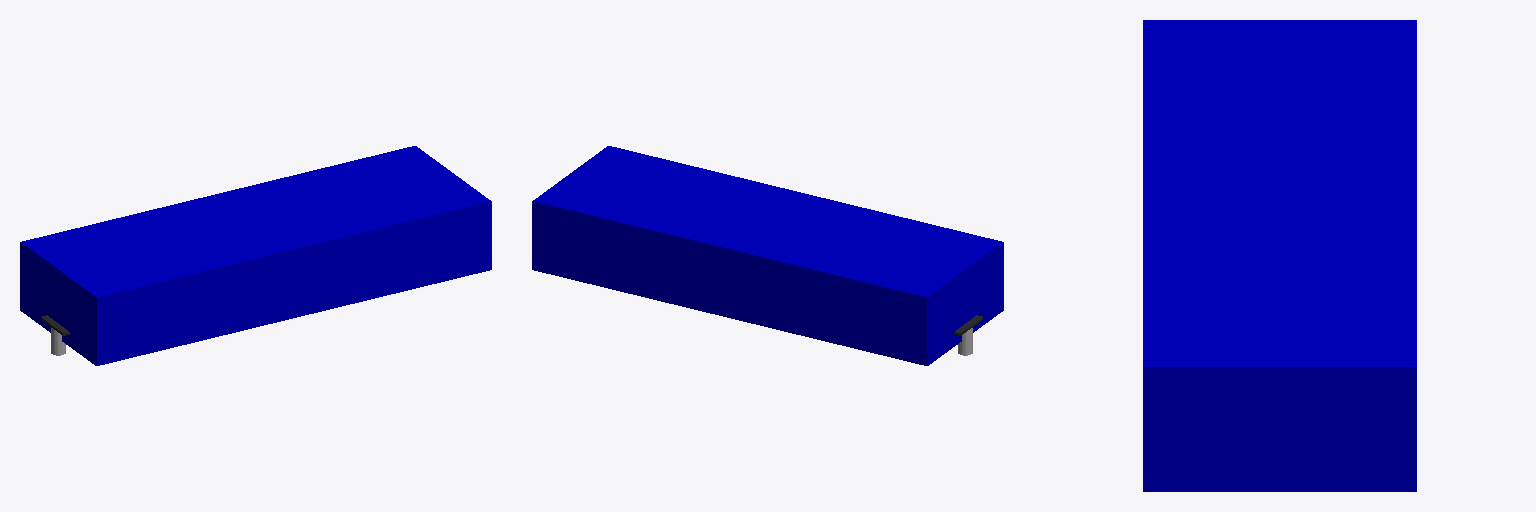
The robot description file, URDF, robot "boat_model":
<?xml version="1.0" ?>
<!-- =================================================================================== -->
<!-- |    This document was autogenerated by xacro from [local-path]/pep_repo/src/pep_pkg/simulations/boat_description/urdf/boat.urdf.xacro | -->
<!-- |    EDITING THIS FILE BY HAND IS NOT RECOMMENDED                                 | -->
<!-- =================================================================================== -->
<robot name="boat_model">
  <!-- Boat Hull -->
  <link name="hull">
    <visual>
      <geometry>
        <box size="3 1 0.5"/>
      </geometry>
      <material name="blue">
        <color rgba="0.0 0.0 0.8 1.0"/>
      </material>
    </visual>
    <collision>
      <geometry>
        <box size="3 1 0.5"/>
      </geometry>
    </collision>
    <inertial>
      <mass value="50"/>
      <origin xyz="0 0 0"/>
      <inertia ixx="5" ixy="0" ixz="0" iyy="5" iyz="0" izz="5"/>
    </inertial>
  </link>
  <!-- Rudder -->
  <link name="rudder">
    <visual>
      <geometry>
        <box size="0.1 0.3 0.02"/>
      </geometry>
      <material name="dark_gray">
        <color rgba="0.2 0.2 0.2 1"/>
      </material>
    </visual>
    <collision>
      <geometry>
        <box size="0.1 0.3 0.02"/>
      </geometry>
    </collision>
    <inertial>
      <mass value="1"/>
      <origin xyz="0 0 0"/>
      <inertia ixx="0.01" ixy="0" ixz="0" iyy="0.01" iyz="0" izz="0.01"/>
    </inertial>
  </link>
  <!-- Joint between hull and rudder -->
  <joint name="rudder_joint" type="revolute">
    <parent link="hull"/>
    <child link="rudder"/>
    <origin rpy="0 0 0" xyz="-1.5 0 -0.15"/>
    <axis xyz="0 0 1"/>
    <limit effort="10" lower="-0.7854" upper="0.7854" velocity="1"/>
  </joint>
  <!-- Motor/Propeller -->
  <link name="motor">
    <visual>
      <geometry>
        <cylinder length="0.2" radius="0.05"/>
      </geometry>
      <material name="silver">
        <color rgba="0.7 0.7 0.7 1"/>
      </material>
    </visual>
    <collision>
      <geometry>
        <cylinder length="0.2" radius="0.05"/>
      </geometry>
    </collision>
    <inertial>
      <mass value="2"/>
      <origin xyz="0 0 0"/>
      <inertia ixx="0.01" ixy="0" ixz="0" iyy="0.01" iyz="0" izz="0.01"/>
    </inertial>
  </link>
  <!-- Joint between hull and motor (fixed) -->
  <joint name="motor_joint" type="fixed">
    <parent link="hull"/>
    <child link="motor"/>
    <origin rpy="0 0 0" xyz="-1.5 0 -0.25"/>
  </joint>
</robot>

--- What the picture shows (computed from the rendered views, not written in the file) ---
Views: 3 orthographic renders of the robot side by side, from view 1: azimuth 30°, elevation 25°; view 2: azimuth 150°, elevation 25°; view 3: azimuth 270°, elevation 25°.
Robot: boat_model — 3 links, 2 joints (1 revolute, 1 fixed); root link hull; default pose: all joints at 0.
Visible links, largest first — view 1: hull; view 2: hull; view 3: hull.
Boxes of the visible links, x1,y1,x2,y2 form: hull: (20,146,491,365); hull: (532,146,1003,365); hull: (1143,20,1416,491).
Size in the robot's own frame: 3.05 by 1 by 0.6 metres.
Geometry: primitives only (box / cylinder / sphere), no mesh files.